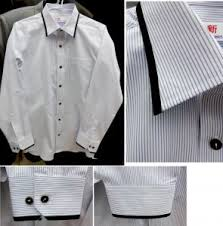S_shirt: (1, 4, 123, 162)
